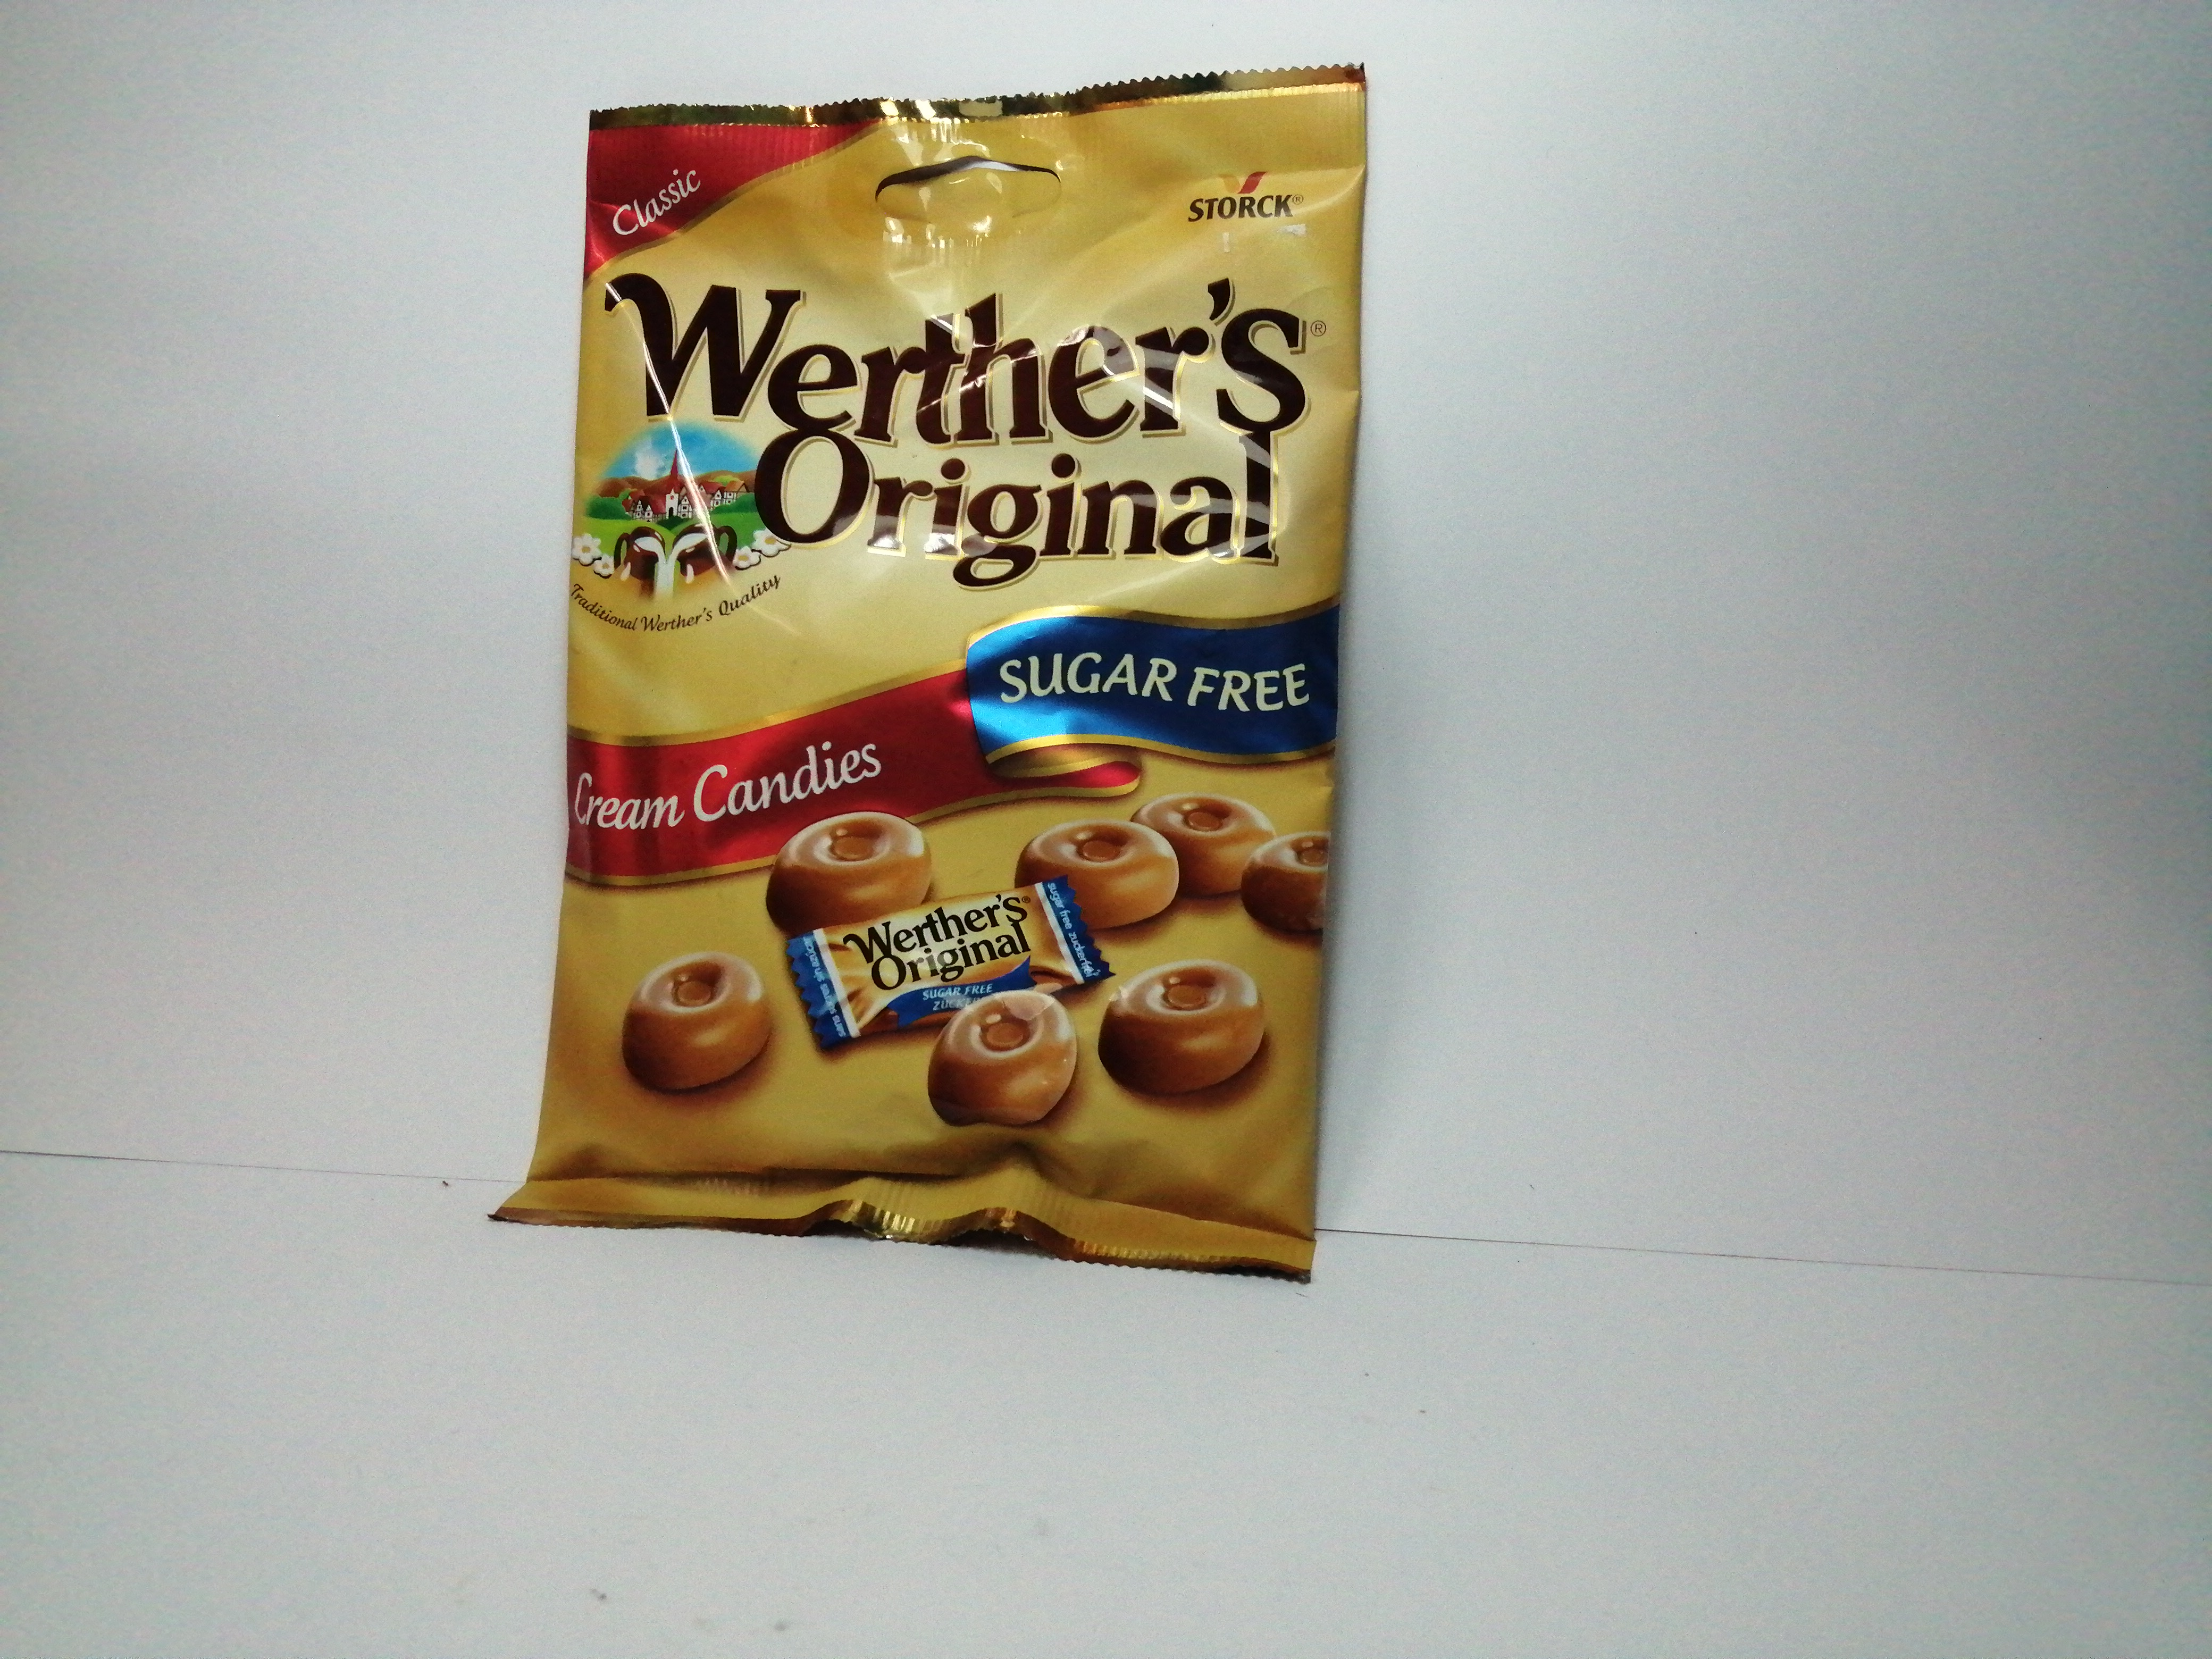dulces: (496, 68, 1369, 1279)
